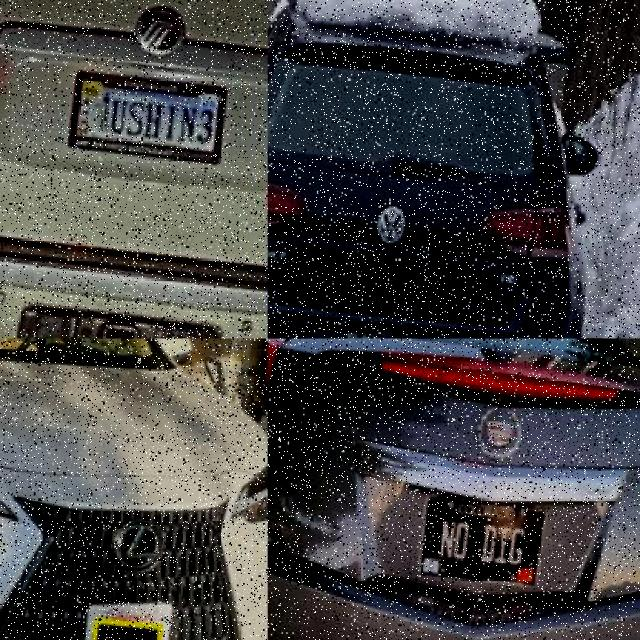licenseplate: (63, 72, 227, 171), (413, 495, 545, 594), (81, 608, 169, 640)
